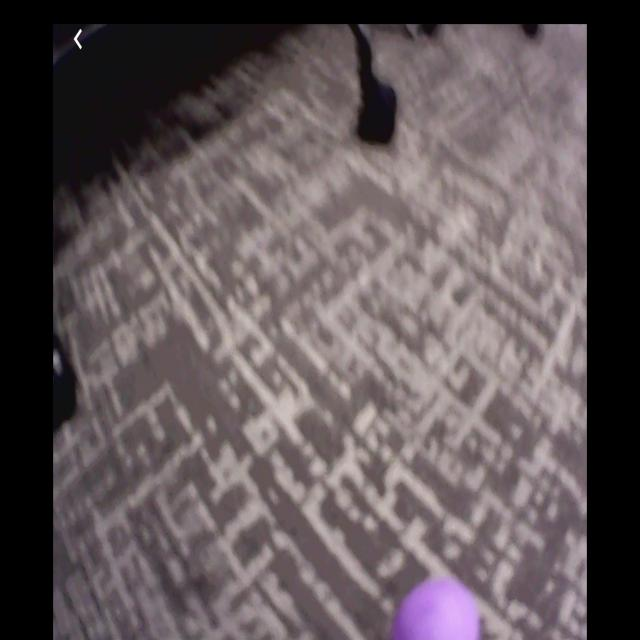ball: (391, 575, 483, 640)
